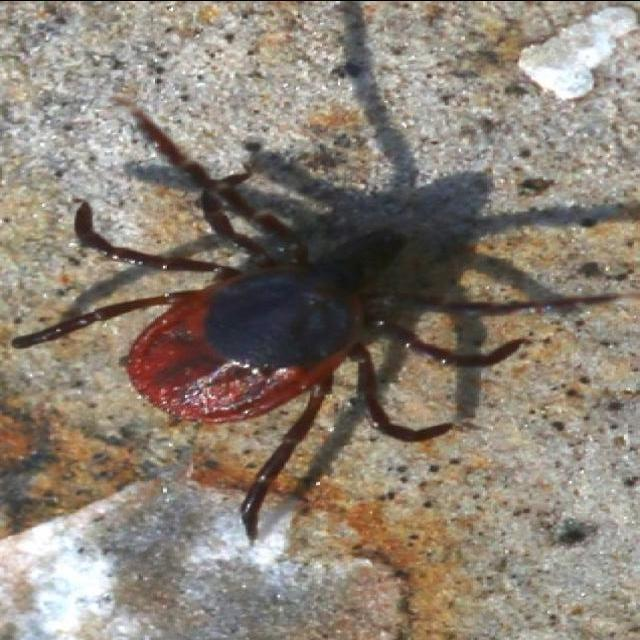Ixodes Ricinus-F: (10, 163, 640, 544)
